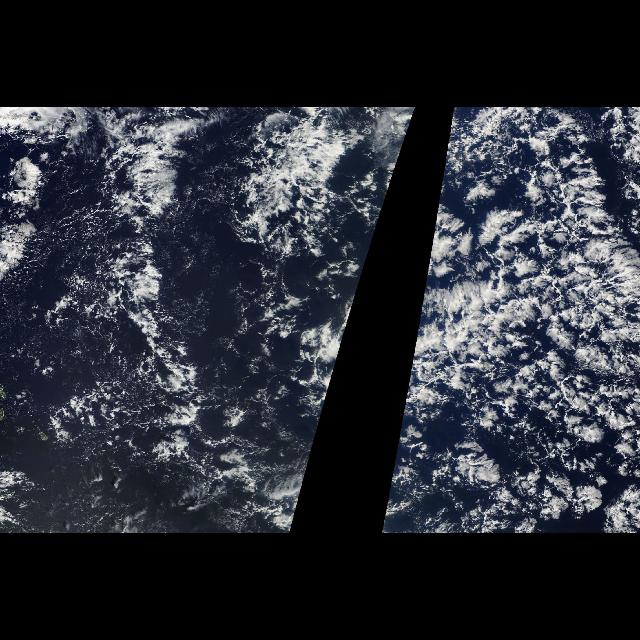Fish: (81, 122, 317, 484), (438, 124, 638, 502)
Flower: (512, 235, 640, 530)
Gravel: (54, 205, 346, 502)
